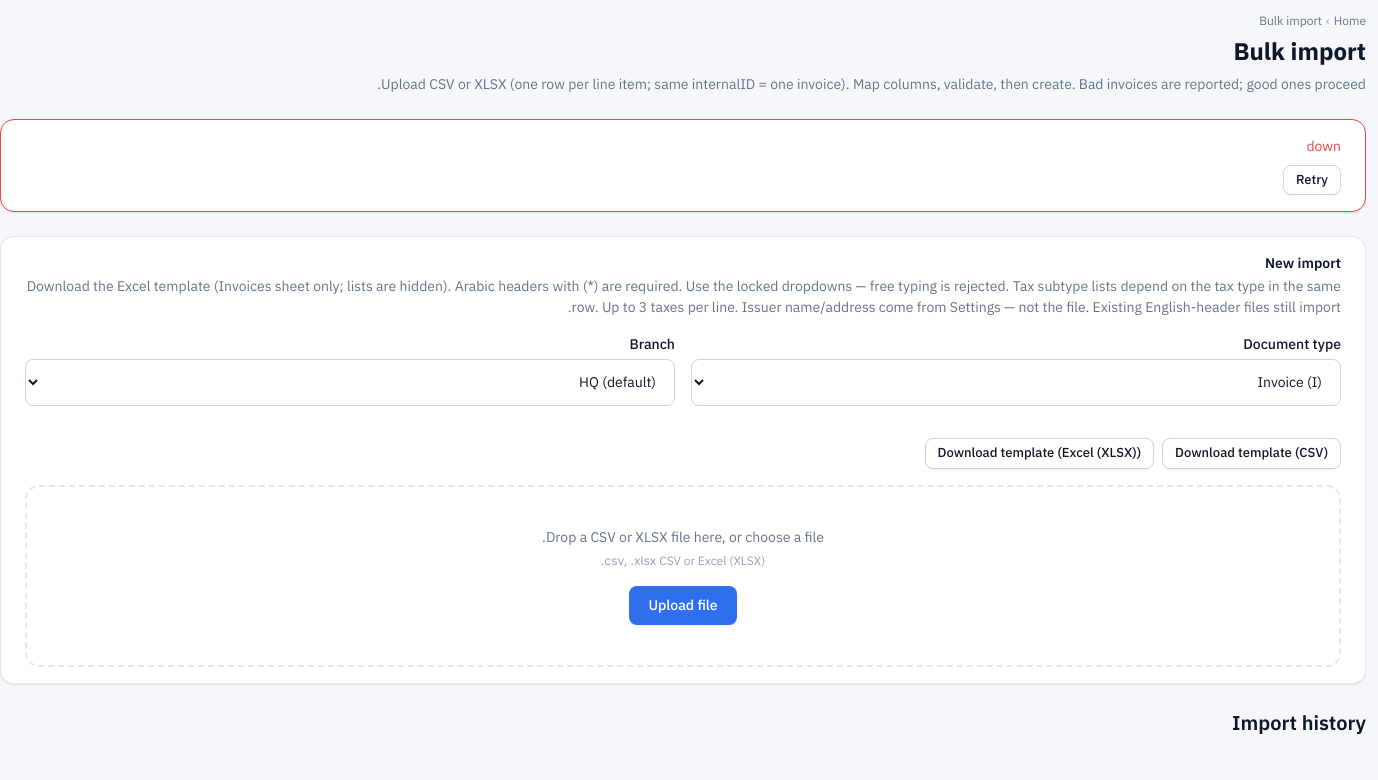
Test: imports page › retries a failed jobs load
Expected: the message shows "down", 1306,136 -> 1341,157
Step 1. Click the button "Retry" → point(1312, 180), box 1283,165 -> 1341,195
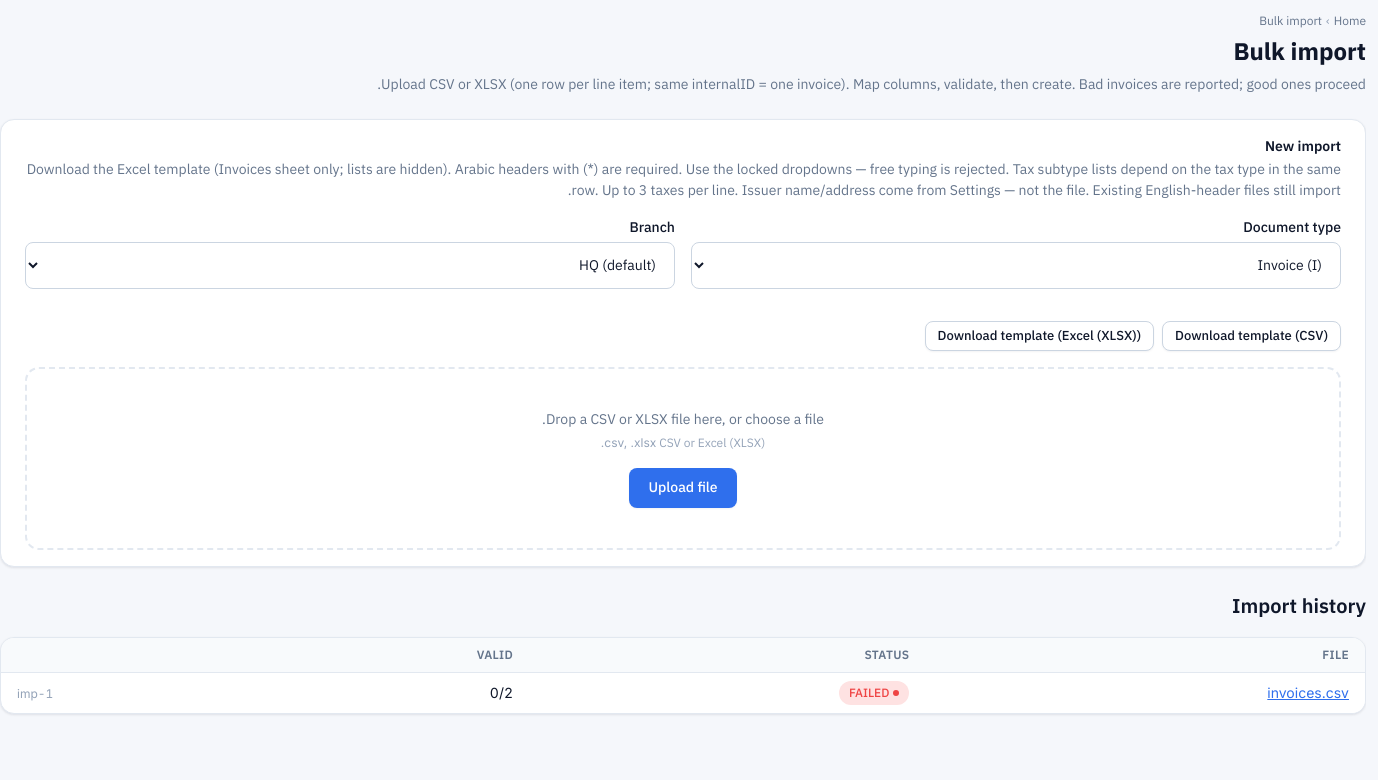
Now the text "invoices.csv" is shown, box 1267,684 -> 1349,701
